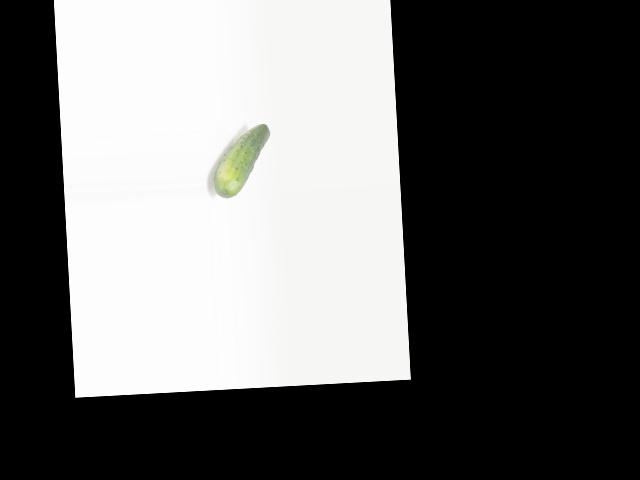cucumber: (211, 123, 273, 198)
